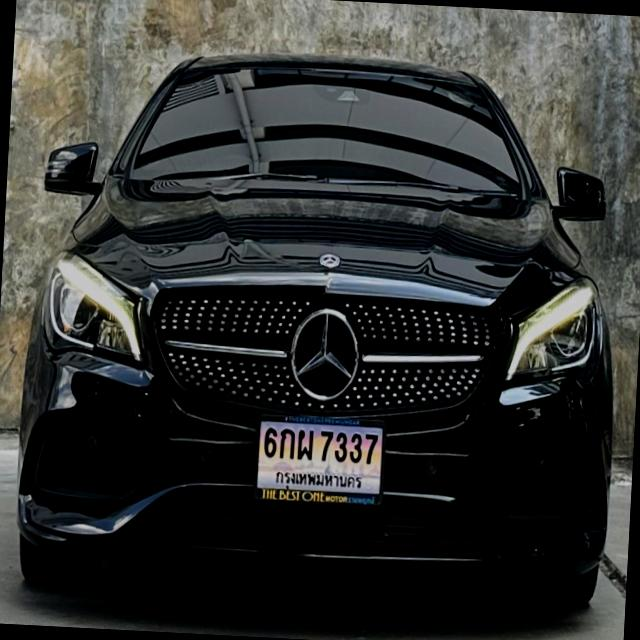license_plate: (254, 415, 386, 508)
